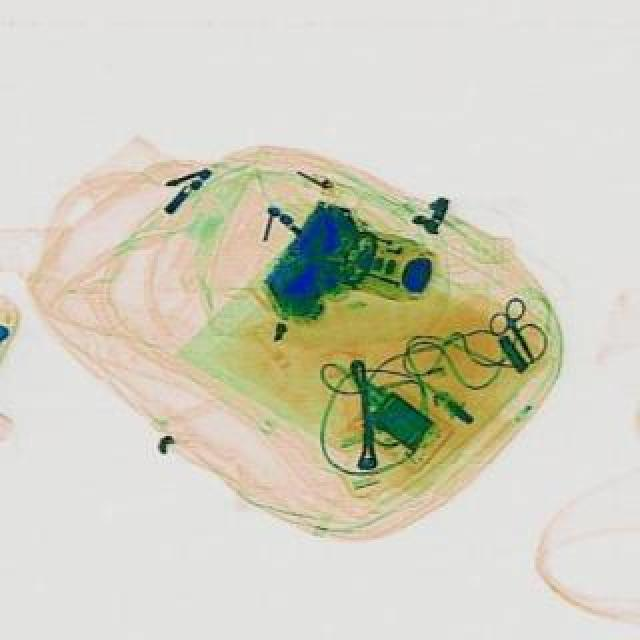pliers: (478, 294, 550, 370)
